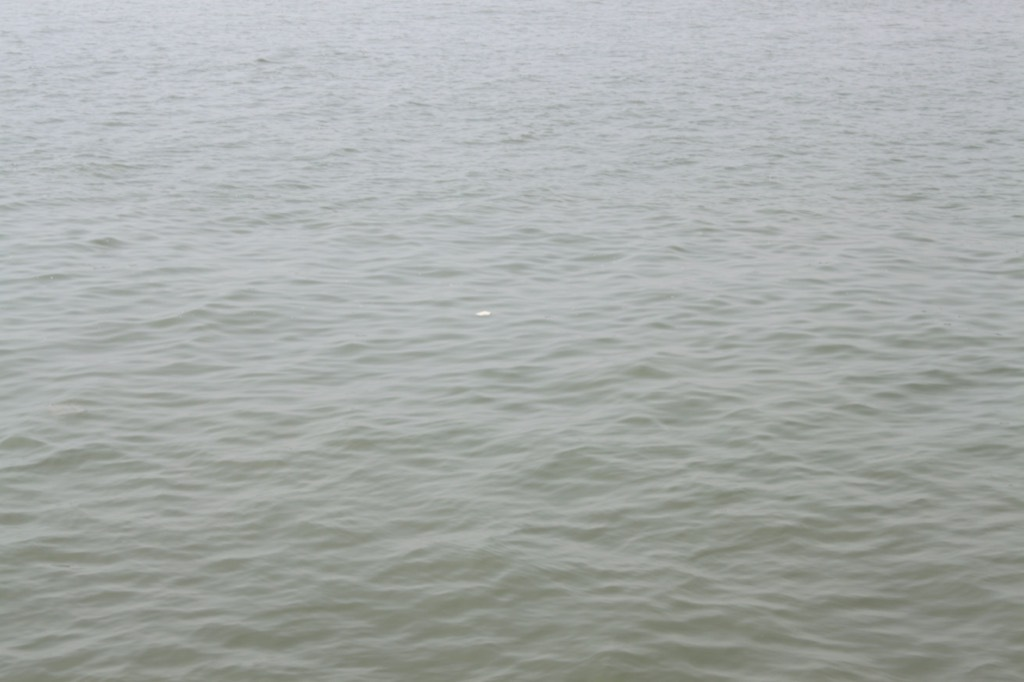plastic: (466, 302, 501, 325)
